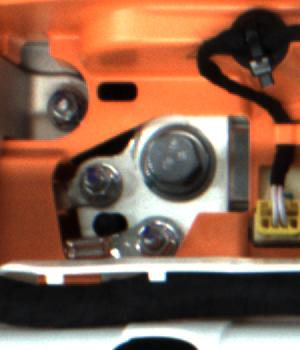nut_b: (139, 120, 212, 199)
screw_s: (137, 217, 181, 258), (79, 163, 122, 200), (43, 91, 82, 131)
